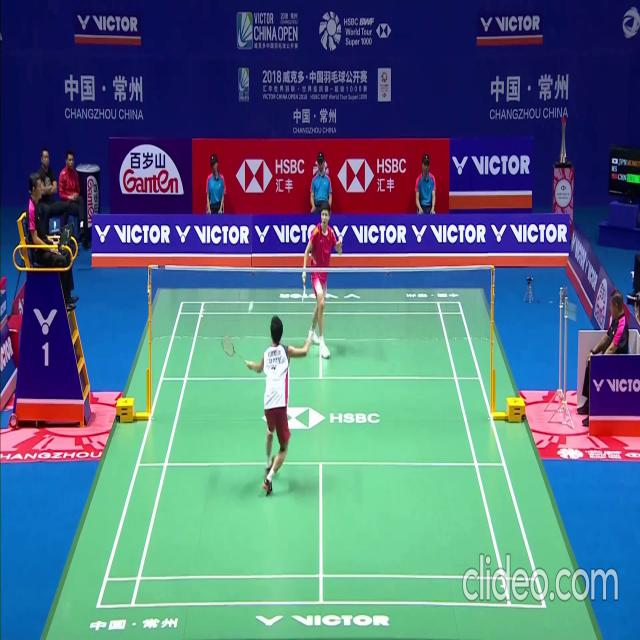Shuttlecock: (248, 305, 253, 312)
